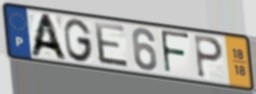6: (130, 27, 158, 73)
A: (27, 13, 70, 63)
E: (92, 20, 131, 70)
F: (158, 28, 191, 76)
G: (62, 17, 95, 64)
P: (193, 33, 225, 80)
